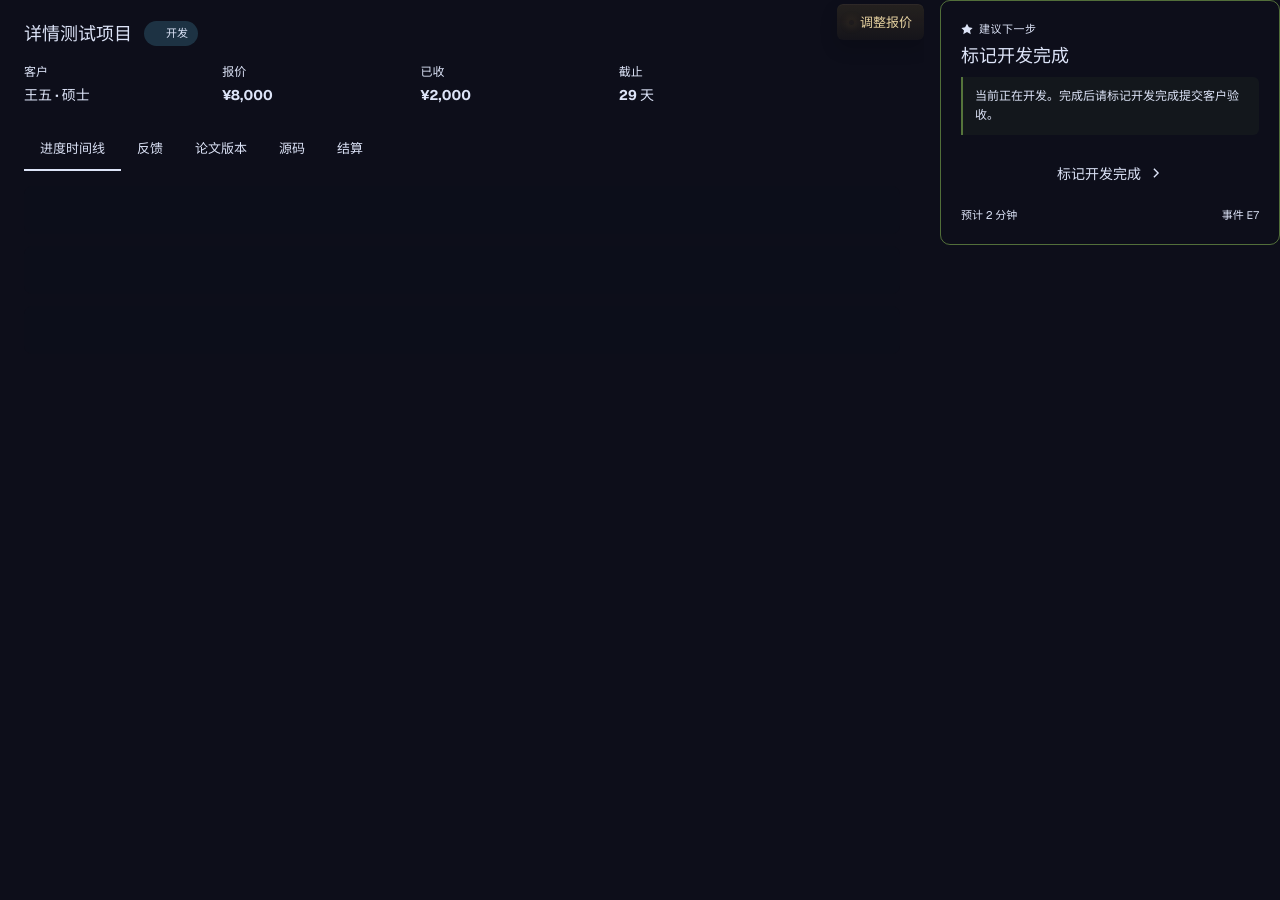
it: ProjectDetailPage › 点击"调整报价"→ QuoteChangeDialog 出现
Click the button "调整报价".
click(880, 22)  # box top-left (837, 4), bottom-right (924, 40)
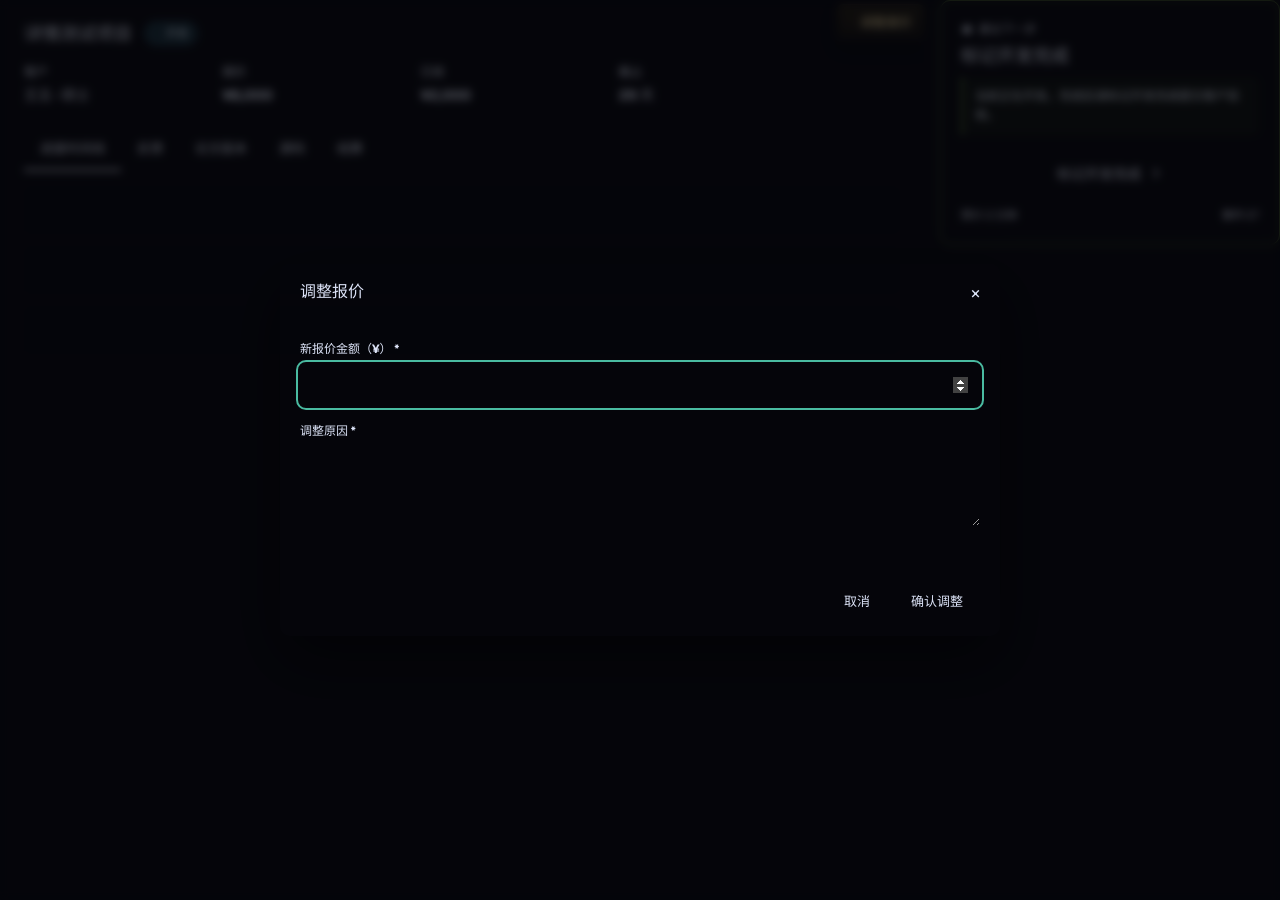
Expected: the dialog with test id "quote-change-dialog" is shown, top-left (280, 264), bottom-right (1000, 636)
